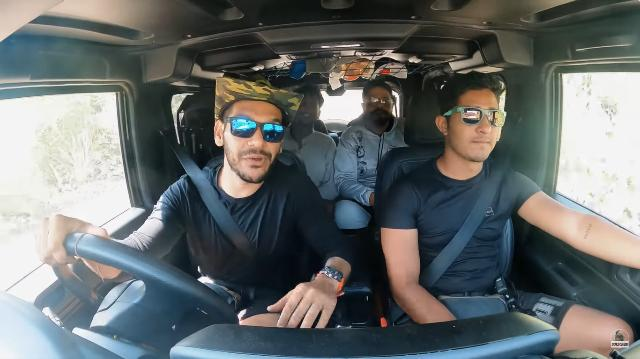no seatbelt: (350, 94, 416, 182), (275, 96, 343, 178)
seatbelt: (169, 144, 319, 292), (390, 174, 546, 312)
